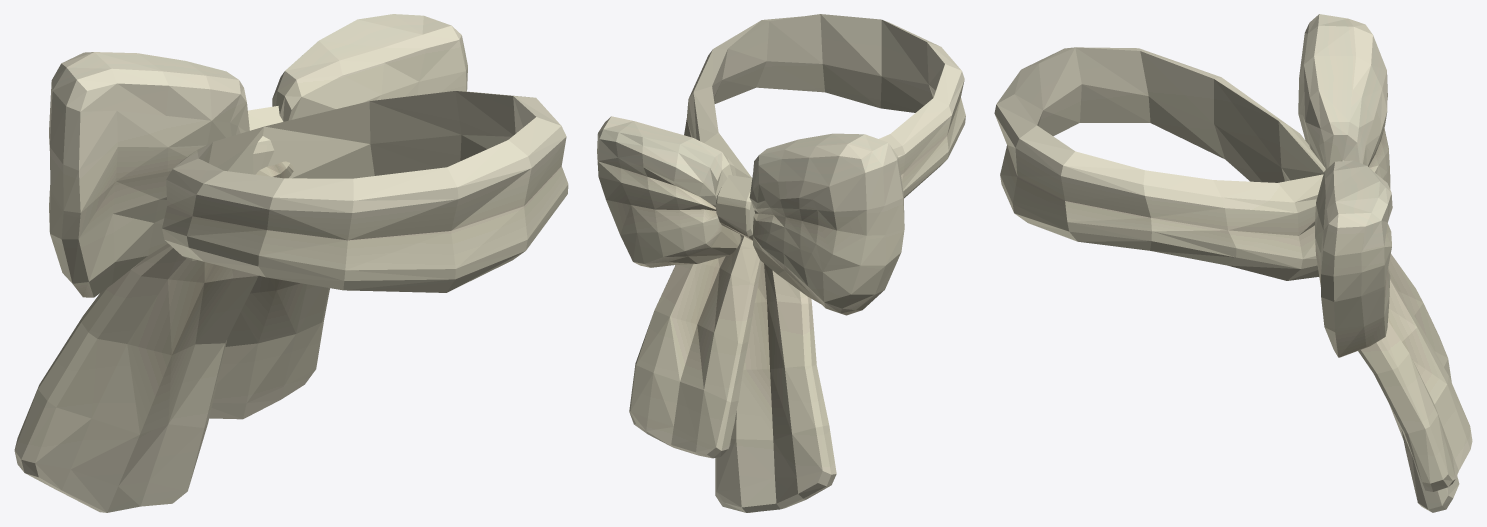
Rendered from CharSkyKid_Neck_Bow.glb.
The picture shows the model from 3 angles, left to right: view 1: azimuth 30°, elevation 25°; view 2: azimuth 150°, elevation 25°; view 3: azimuth 270°, elevation 25°; orthographic projection. The views are drawn at different scales.
Visible parts, largest first — view 1: CharSkyKid_Neck_Bow; view 2: CharSkyKid_Neck_Bow; view 3: CharSkyKid_Neck_Bow.
Part boxes in pixels (bbox=[...]): CharSkyKid_Neck_Bow: bbox=[14, 14, 568, 512]; CharSkyKid_Neck_Bow: bbox=[597, 14, 965, 512]; CharSkyKid_Neck_Bow: bbox=[994, 14, 1472, 512].
Bounding box in the file's own units: 2.36 × 2.77 × 2.76.
Materials: 1 (1 with a texture image).
